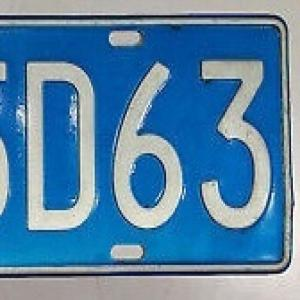Plate: (1, 4, 299, 282)
